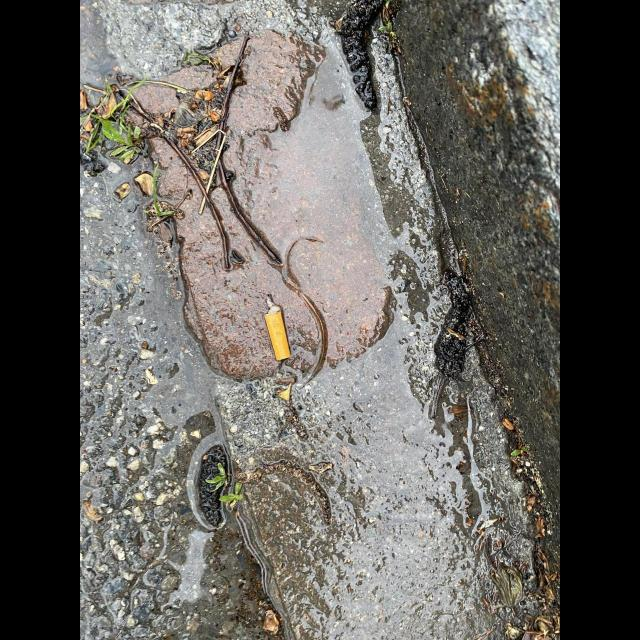cigarette: (264, 293, 291, 361)
